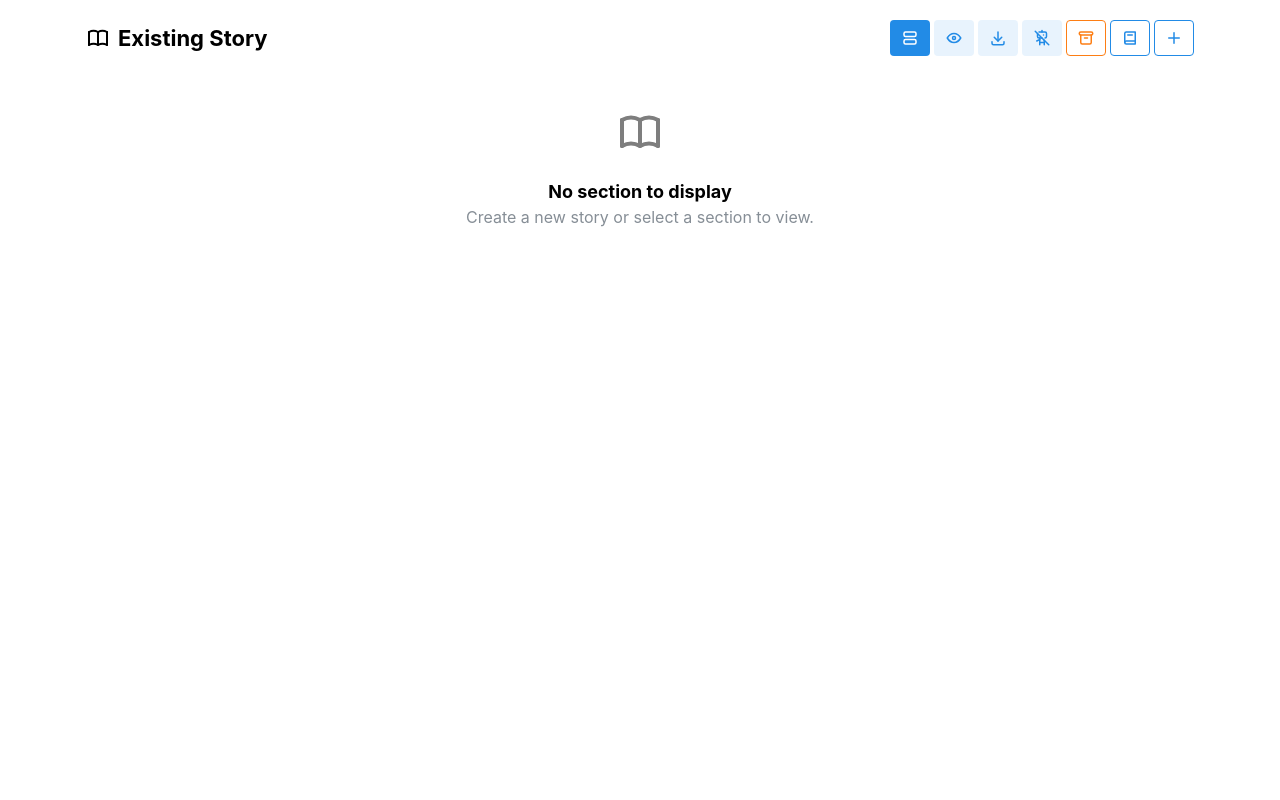
Scenario: StoryPage - New Story button › opens Create Story modal when New Story is clicked
Step 1. Click the button named "new story" → (1174, 38), box [1154,20,1194,56]
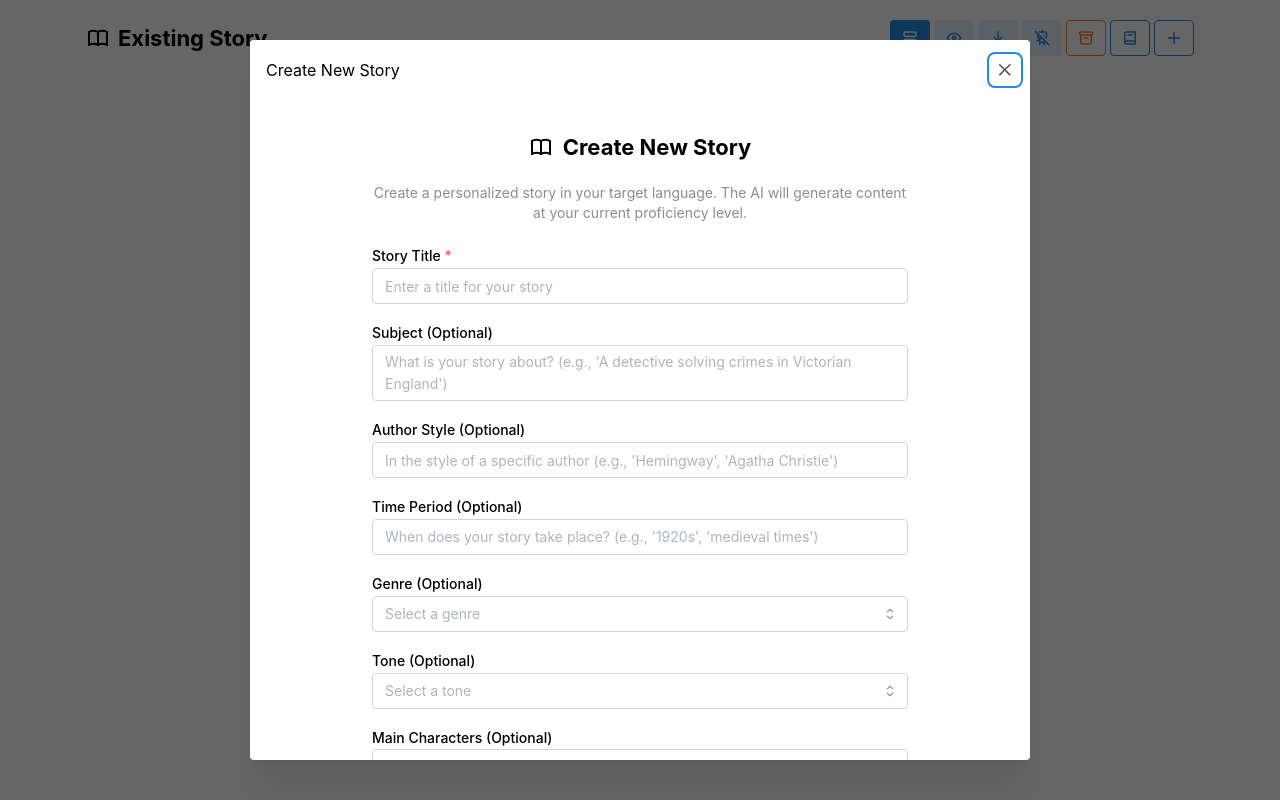
Now the dialog is shown, box [250,40,1030,760]
Now the field labelled "Story Title *" is shown, box [372,268,908,304]
